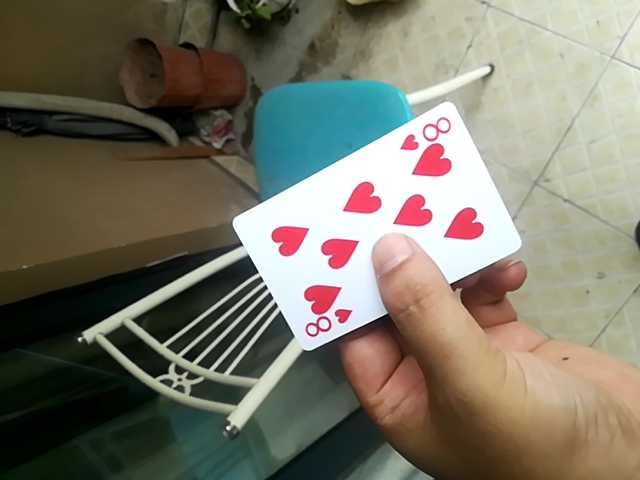hx 8: (229, 103, 521, 355)
